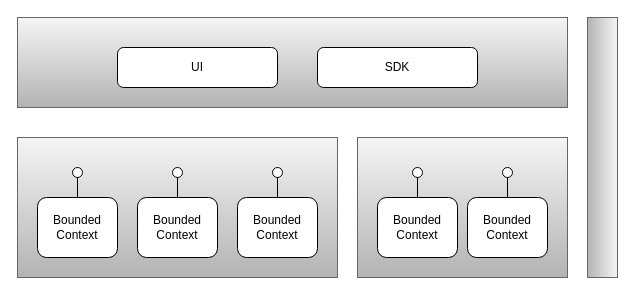
This 635x295 diagram has some shape labels left out. The shapes that lost their labels are listed below. From the top down, each one's box as (x1, y1, x2, y2) in pixels, then its label:
(16, 16, 568, 108): Clients
(586, 16, 618, 278): Automation
(16, 136, 338, 278): Business Capability Services
(356, 136, 568, 278): Cross Cutting Concerns Services
